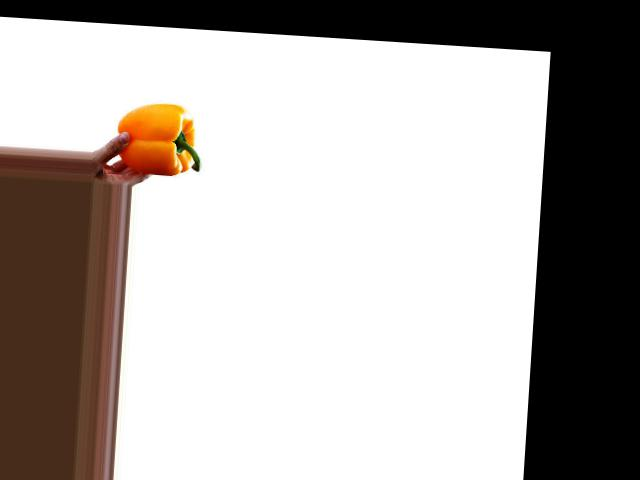bell_pepper: (113, 99, 208, 177)
